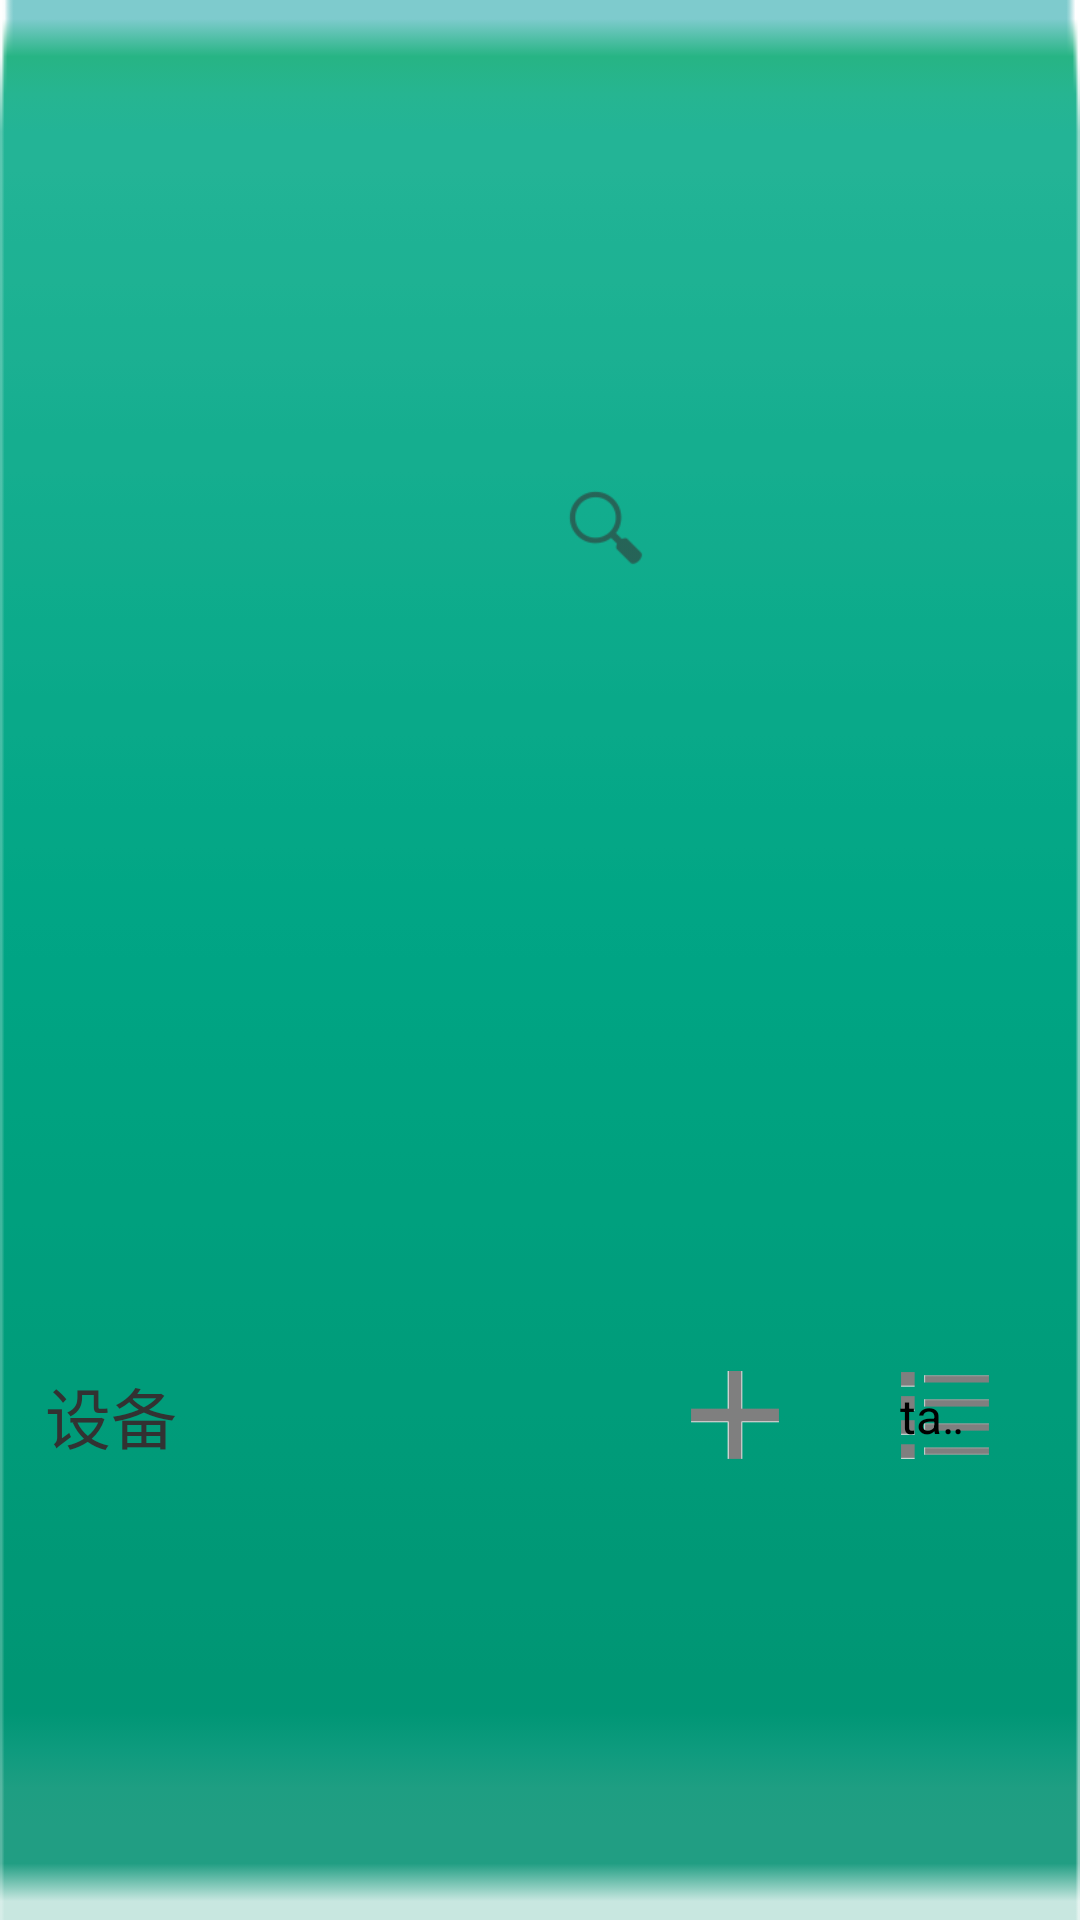

Screen size 1080w x 1920h. Icon name, then its box in pixels as [left=x1, top=y1, right=x2, bottom=y2]:
add: [left=691, top=1371, right=779, bottom=1459]
